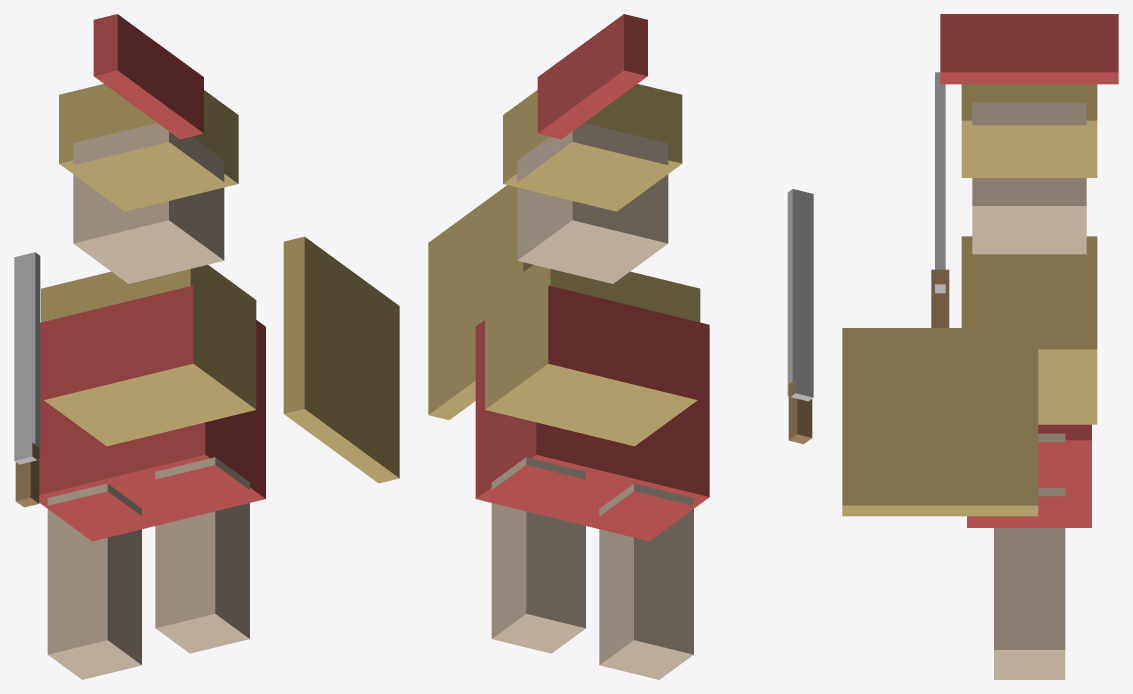
Rendered from hipaspista.glb.
The picture shows the model from 3 angles, left to right: view 1: azimuth 30°, elevation 25°; view 2: azimuth 150°, elevation 25°; view 3: azimuth 270°, elevation 25°; orthographic projection. The views are drawn at different scales.
Visible parts, largest first — view 1: Hoplite; view 2: Hoplite; view 3: Hoplite.
Boxes of the visible parts, x1,y1,x2,y2 form: Hoplite: (14,14,399,679); Hoplite: (428,14,813,679); Hoplite: (842,14,1118,679).
Size of the model in its own units: 1.12 by 1.91 by 0.775.
